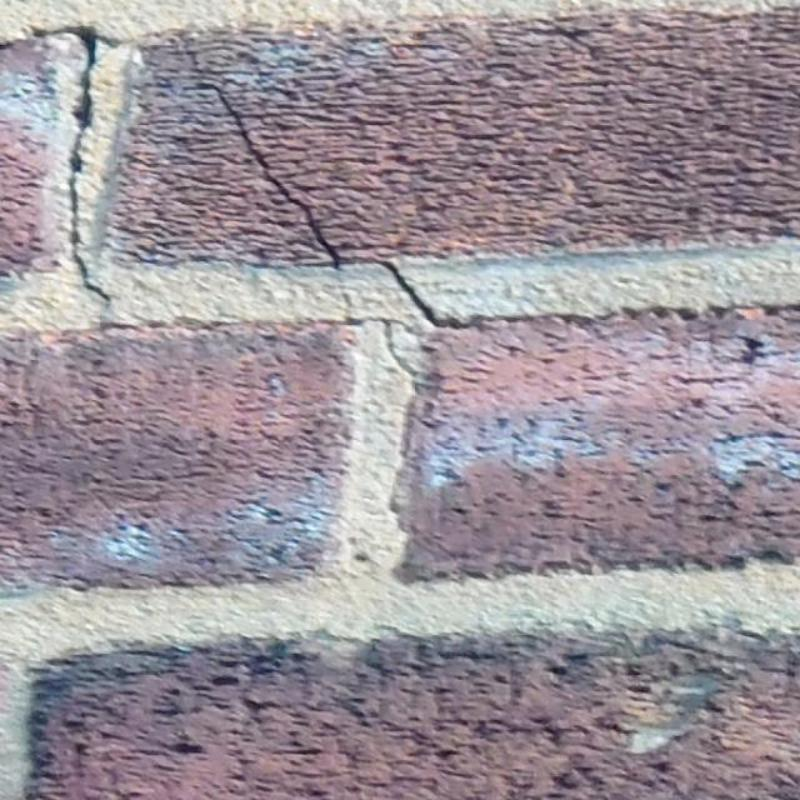crack: (198, 83, 342, 267), (64, 27, 106, 300), (330, 266, 422, 381), (381, 261, 462, 325)
